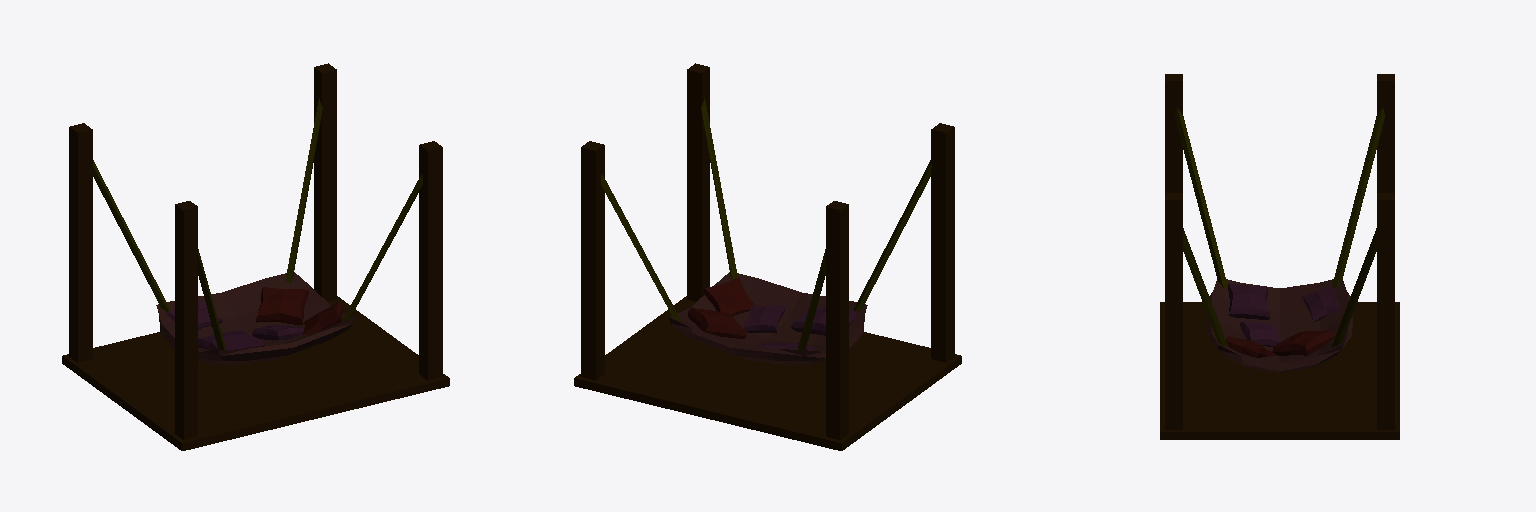
Rendered from Sleepbed1.obj.
3 views of the same model, side by side, from view 1: azimuth 30°, elevation 25°; view 2: azimuth 150°, elevation 25°; view 3: azimuth 270°, elevation 25° (orthographic).
Parts seen in each view (by area): view 1: Sleepbed1_Cube.037; view 2: Sleepbed1_Cube.037; view 3: Sleepbed1_Cube.037.
Boxes of the visible parts, <box> form: Sleepbed1_Cube.037: <box>62,63,449,450</box>; Sleepbed1_Cube.037: <box>574,63,961,450</box>; Sleepbed1_Cube.037: <box>1160,74,1399,439</box>.
Size of the model in its own units: 5.62 by 4.78 by 4.36.